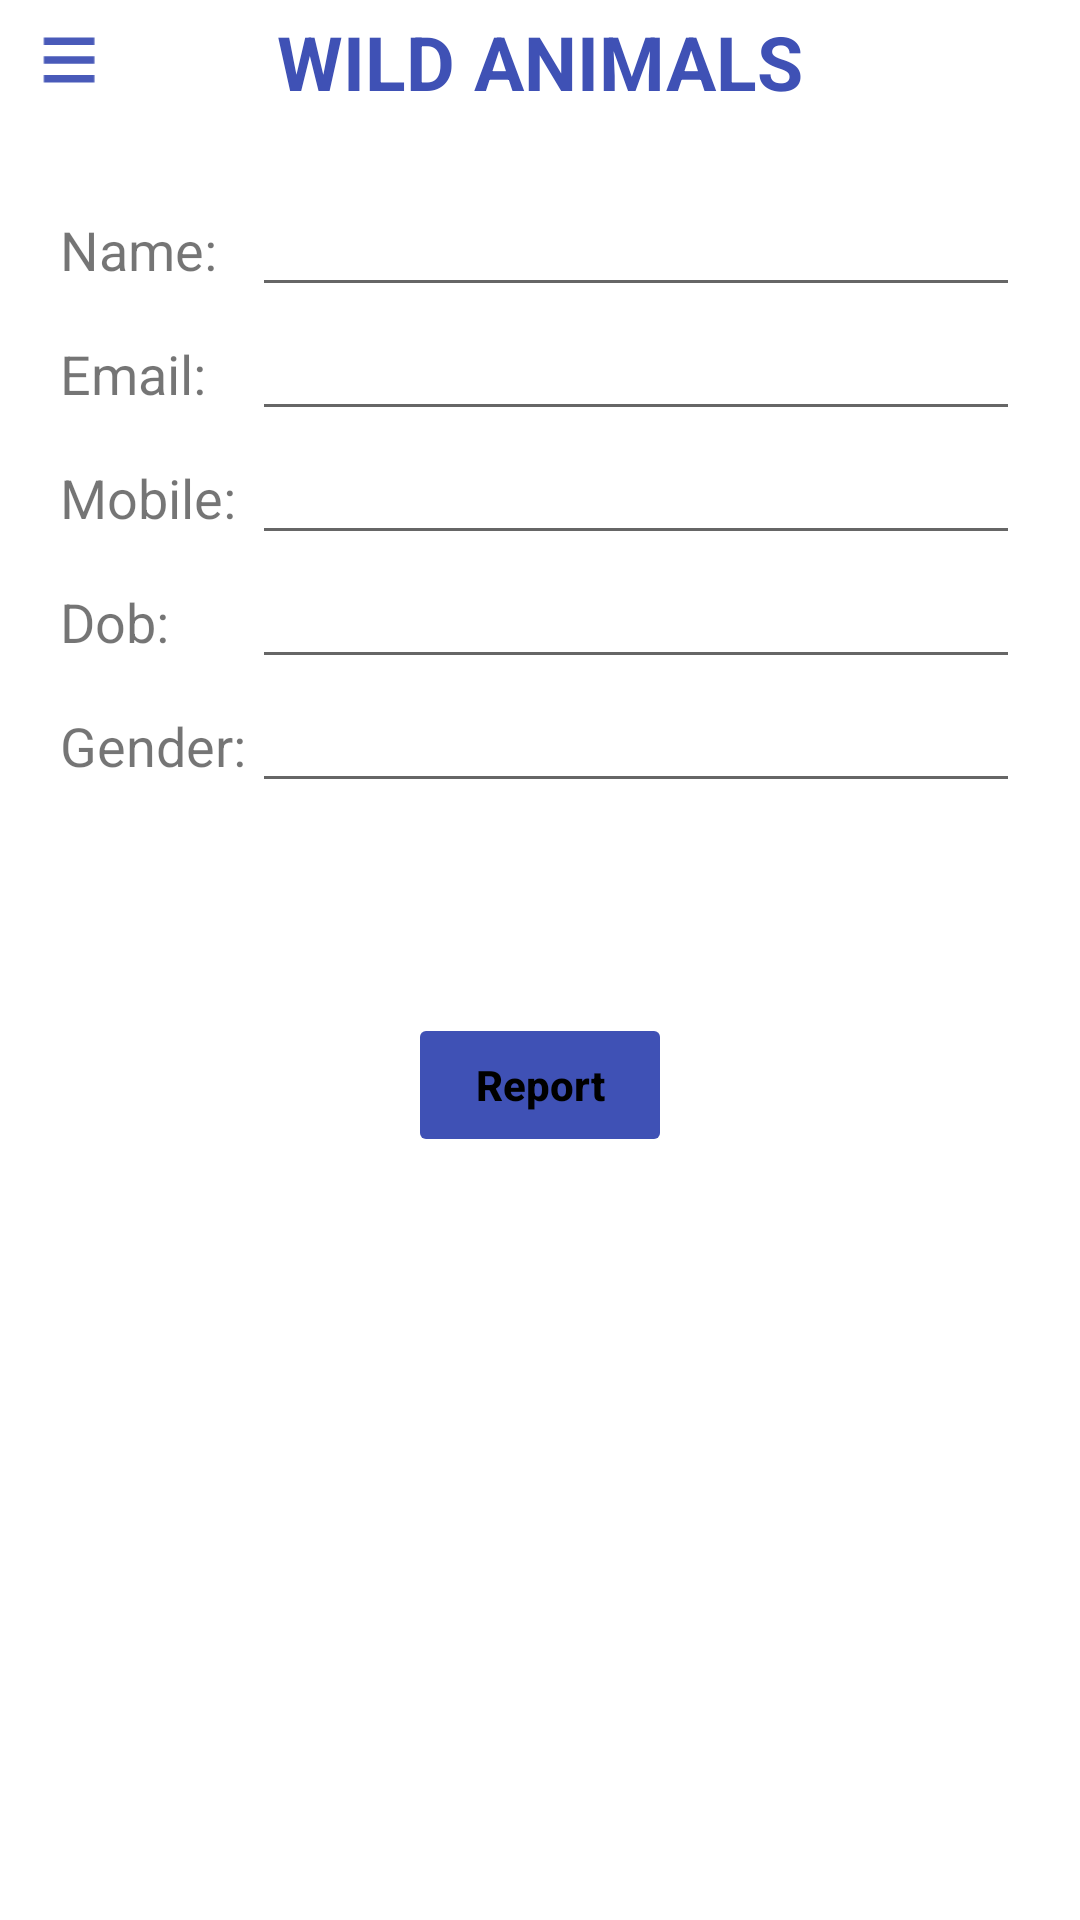

Screen size 1080 × 1920. Icon name, then its box in pixels as (x1, y1, x2, y2):
menu: (43, 37, 95, 83)
